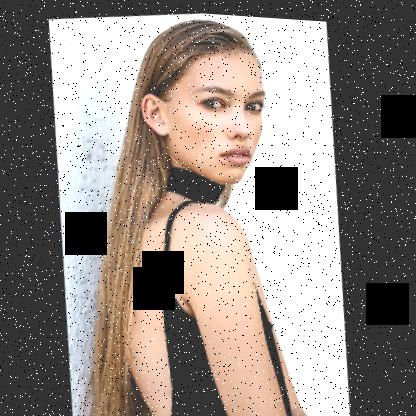Female: (133, 37, 276, 194)
